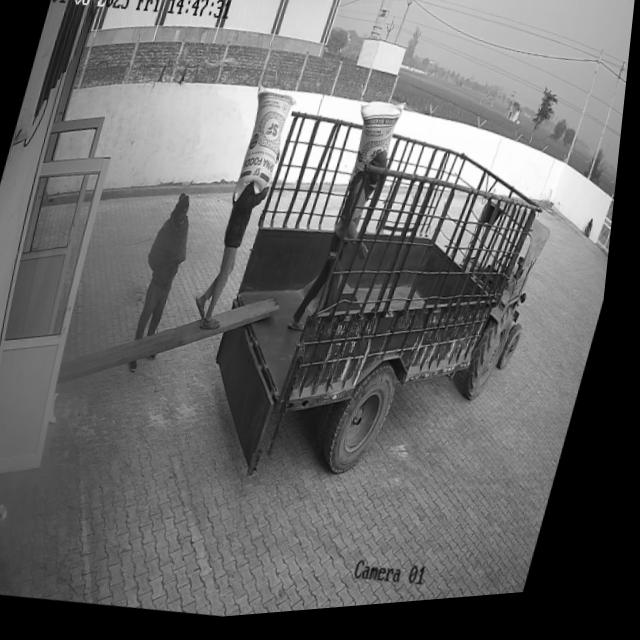sack: (230, 85, 301, 212), (343, 100, 410, 198)
